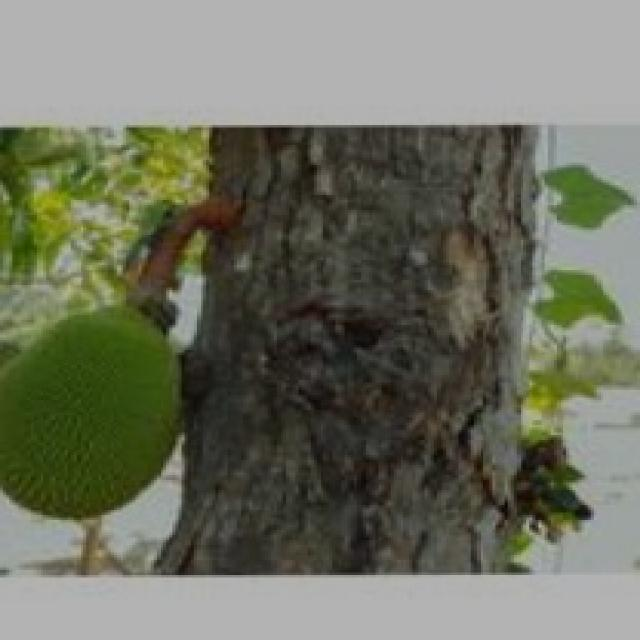Fruit: (0, 292, 200, 532)
